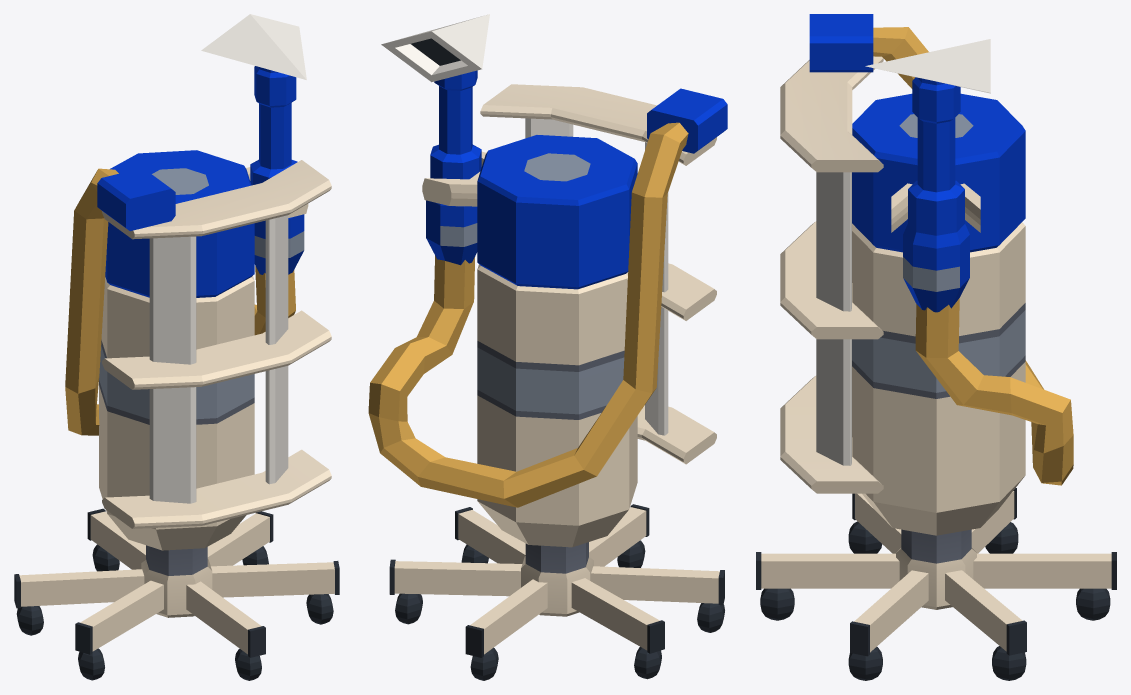
The model's file is g_o_CastMachine.fbx.
3 views of the same model, side by side, from view 1: azimuth 30°, elevation 25°; view 2: azimuth 150°, elevation 25°; view 3: azimuth 270°, elevation 25° (orthographic). The views are drawn at different scales.
Parts seen in each view (by area): view 1: g_o_CastMachine; view 2: g_o_CastMachine; view 3: g_o_CastMachine.
Boxes of the visible parts, box(x1,y1,x2,y2) form: g_o_CastMachine: box(14, 14, 339, 680); g_o_CastMachine: box(368, 14, 727, 680); g_o_CastMachine: box(756, 14, 1116, 680).
Bounding box in the file's own units: 69.64 × 136 × 70.22.
